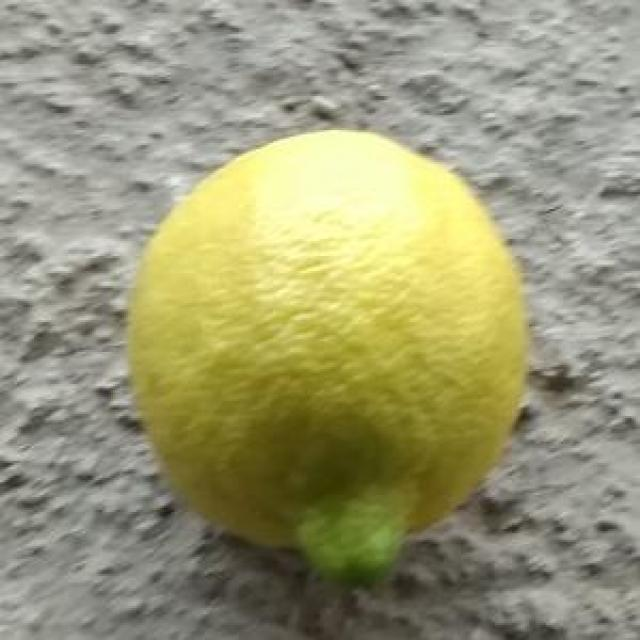lemon: (125, 125, 534, 594)
